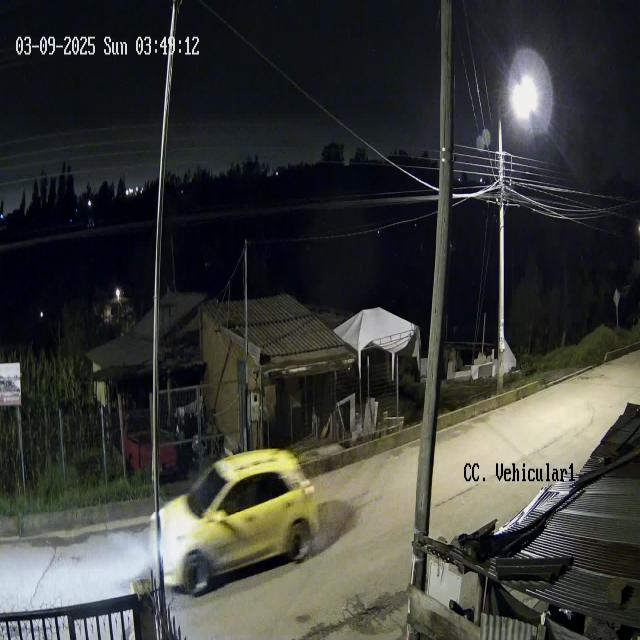SUV: (150, 447, 319, 592)
